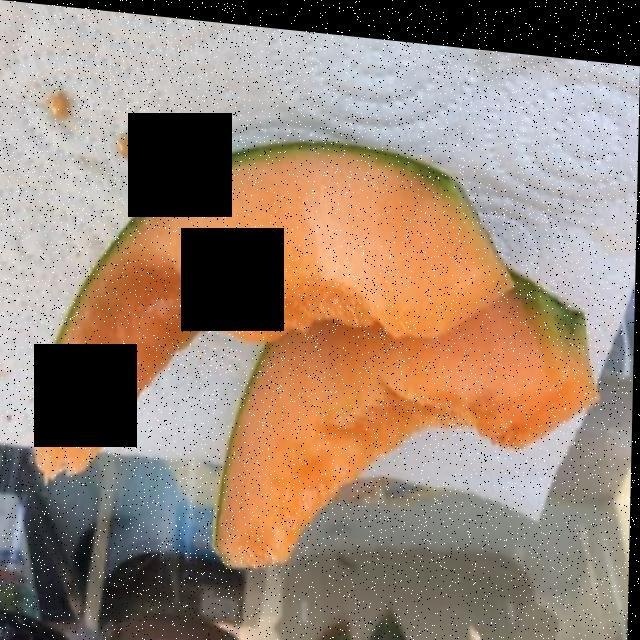melon: (50, 137, 594, 555)
